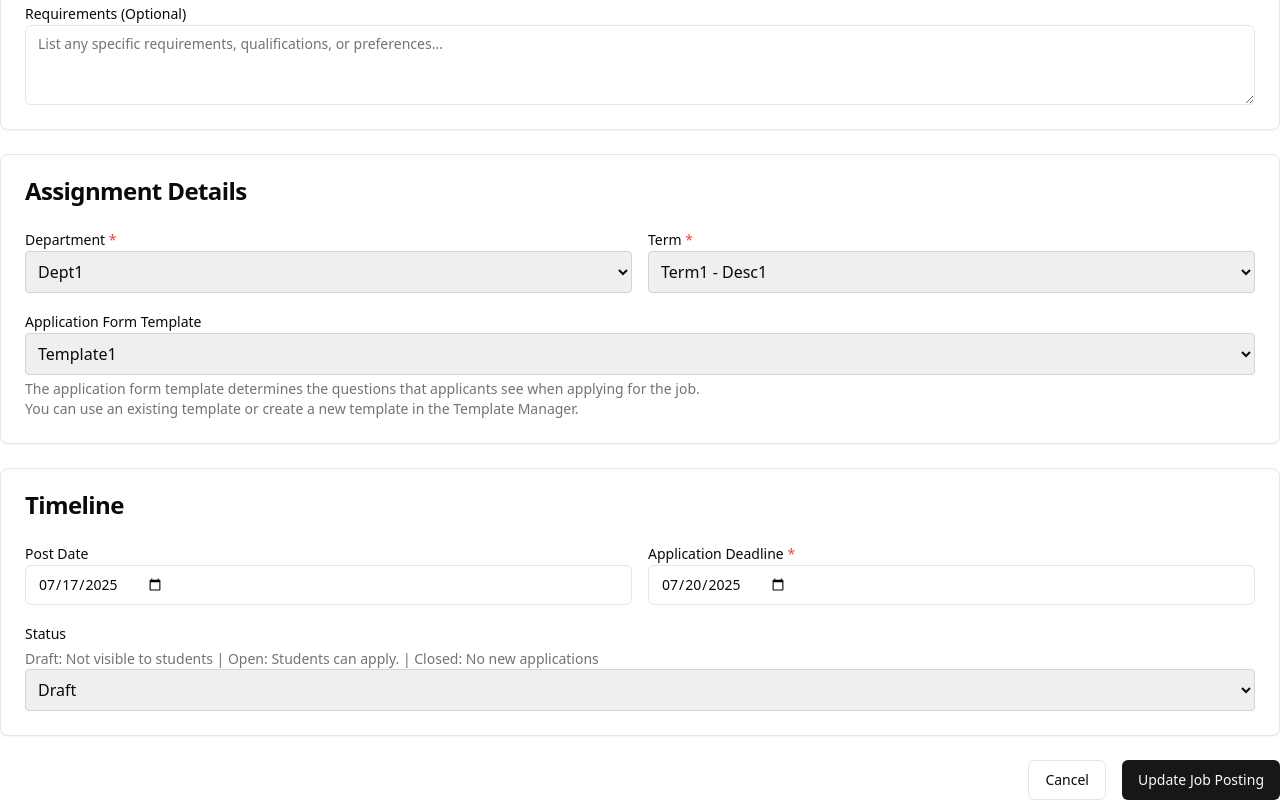
Scenario: JobPostingForm › shows Post Job button text and warning when changing status to open on draft job posting
(page scrolled)
Select "Open" in the dropdown labelled "Status" at (640, 690), box [25,669,1255,711]
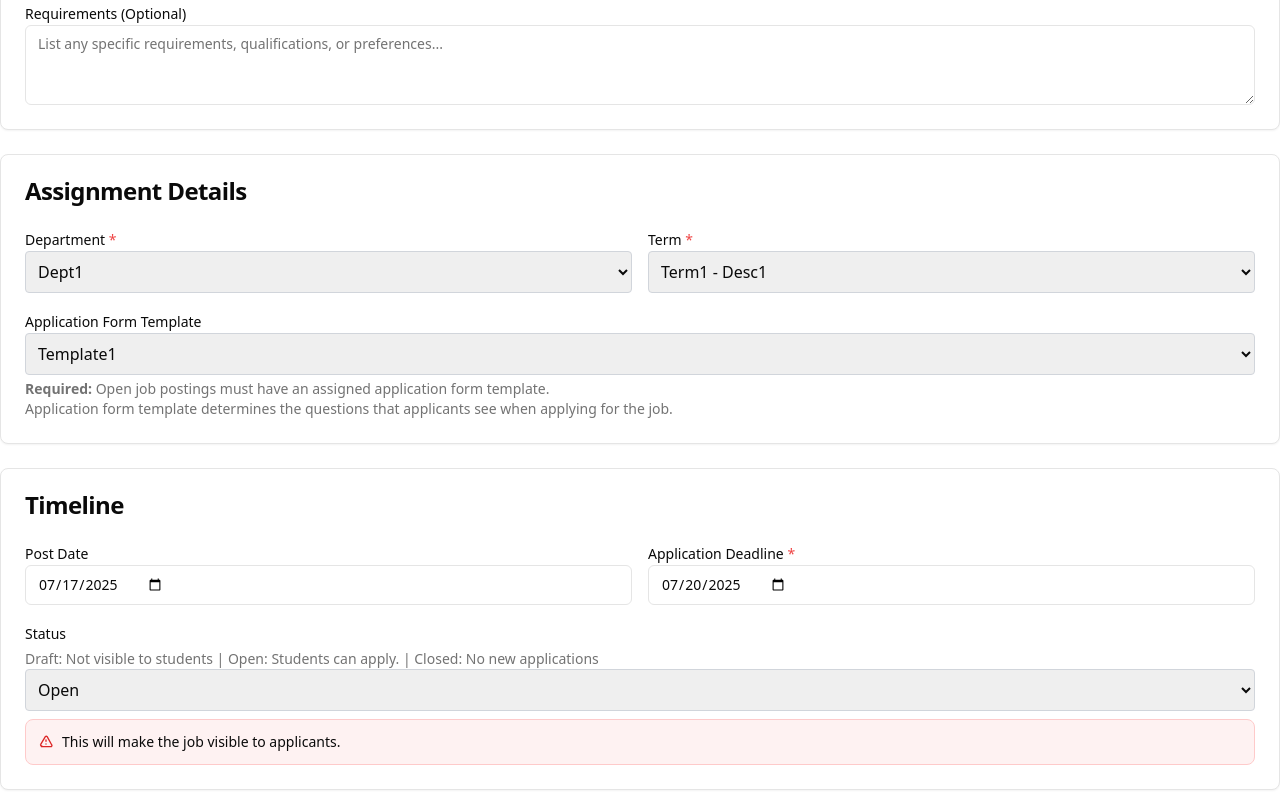
Expected: the text "This will make the job visible to applicants." is shown, [62,732,340,752]
